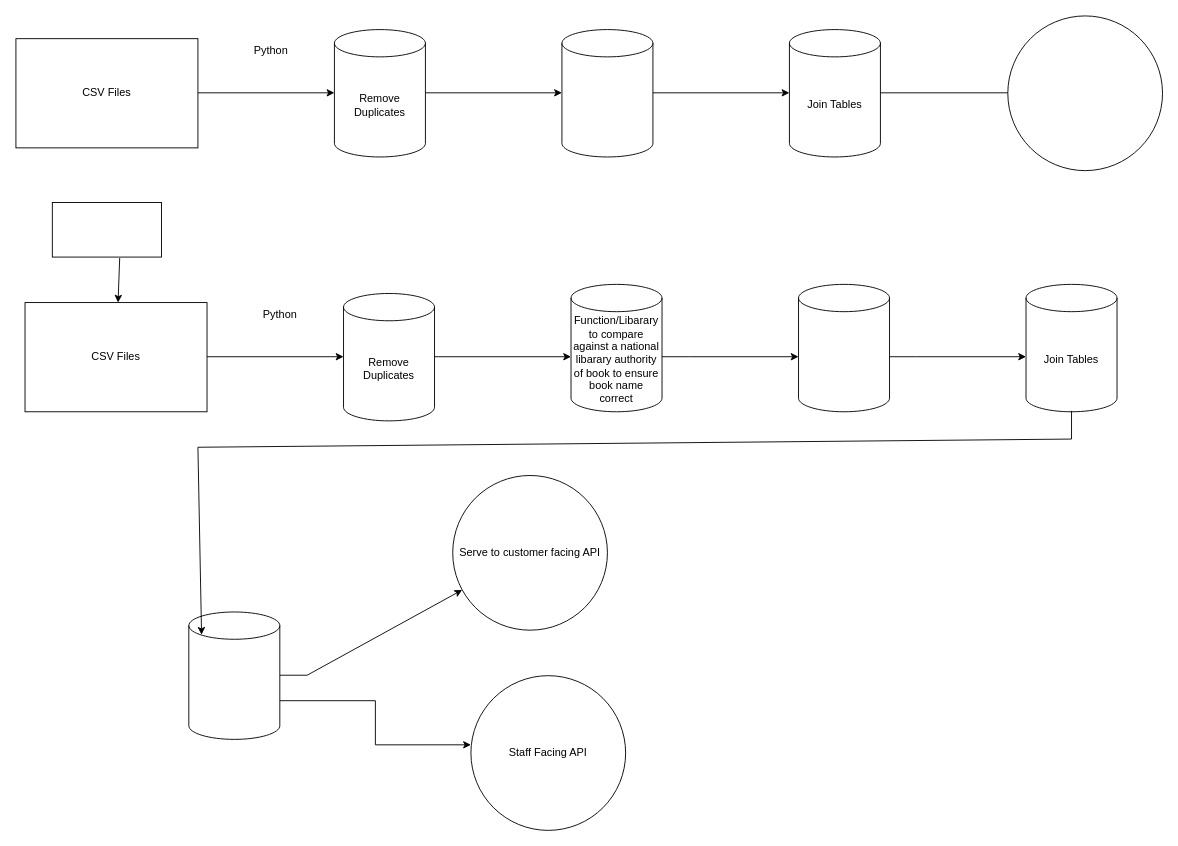
Some shapes in this 1178 by 846 pixel diagram are drawn without their labels. The box of each missing label's shape, as (x1, y1, x2, y2) in pixels:
Check Dates are 'real'/match library borrowing rules.: (561, 29, 653, 157)
Compare customer data against electoral roll/credit reference agencies: (798, 283, 890, 412)
Create Multiple internal/external views: (188, 611, 280, 739)
Output to PowerBI: (1007, 15, 1163, 171)
Scheduled Ingestion: (51, 202, 162, 257)
